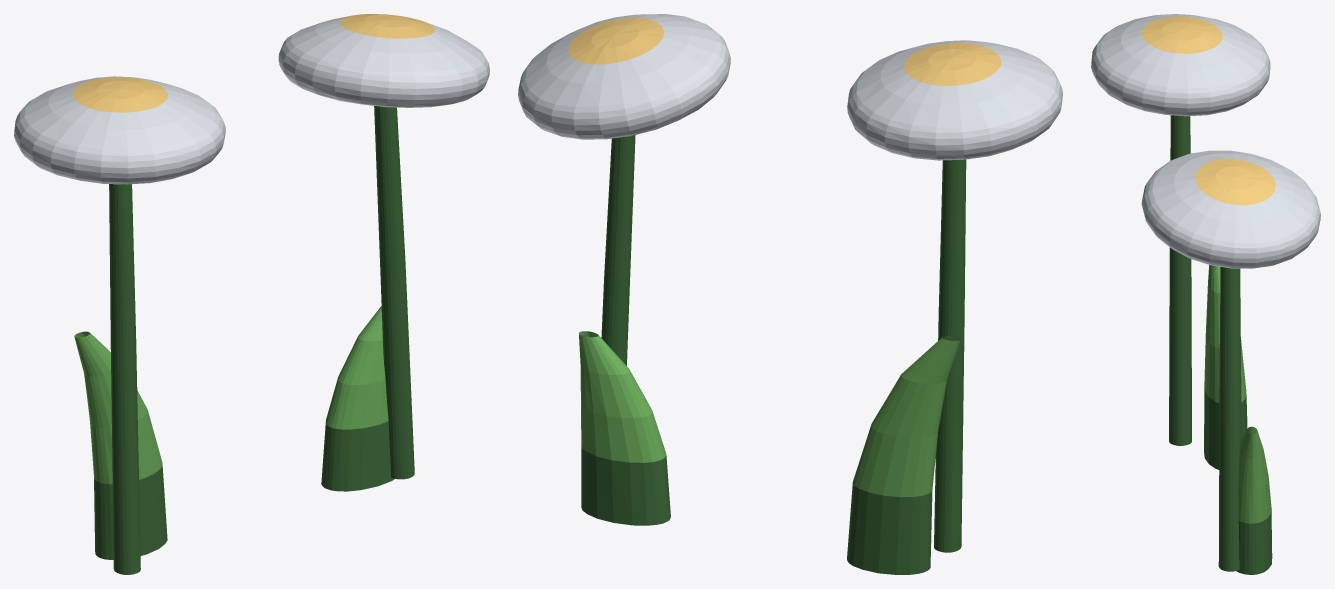
Rendered from FlowerSprigs.obj.
3 renders of one model, left to right at view 1: azimuth 30°, elevation 25°; view 2: azimuth 150°, elevation 25°; view 3: azimuth 270°, elevation 25°, orthographic. The views are drawn at different scales.
Bounding box in the file's own units: 1.3 × 1.26 × 0.637.
